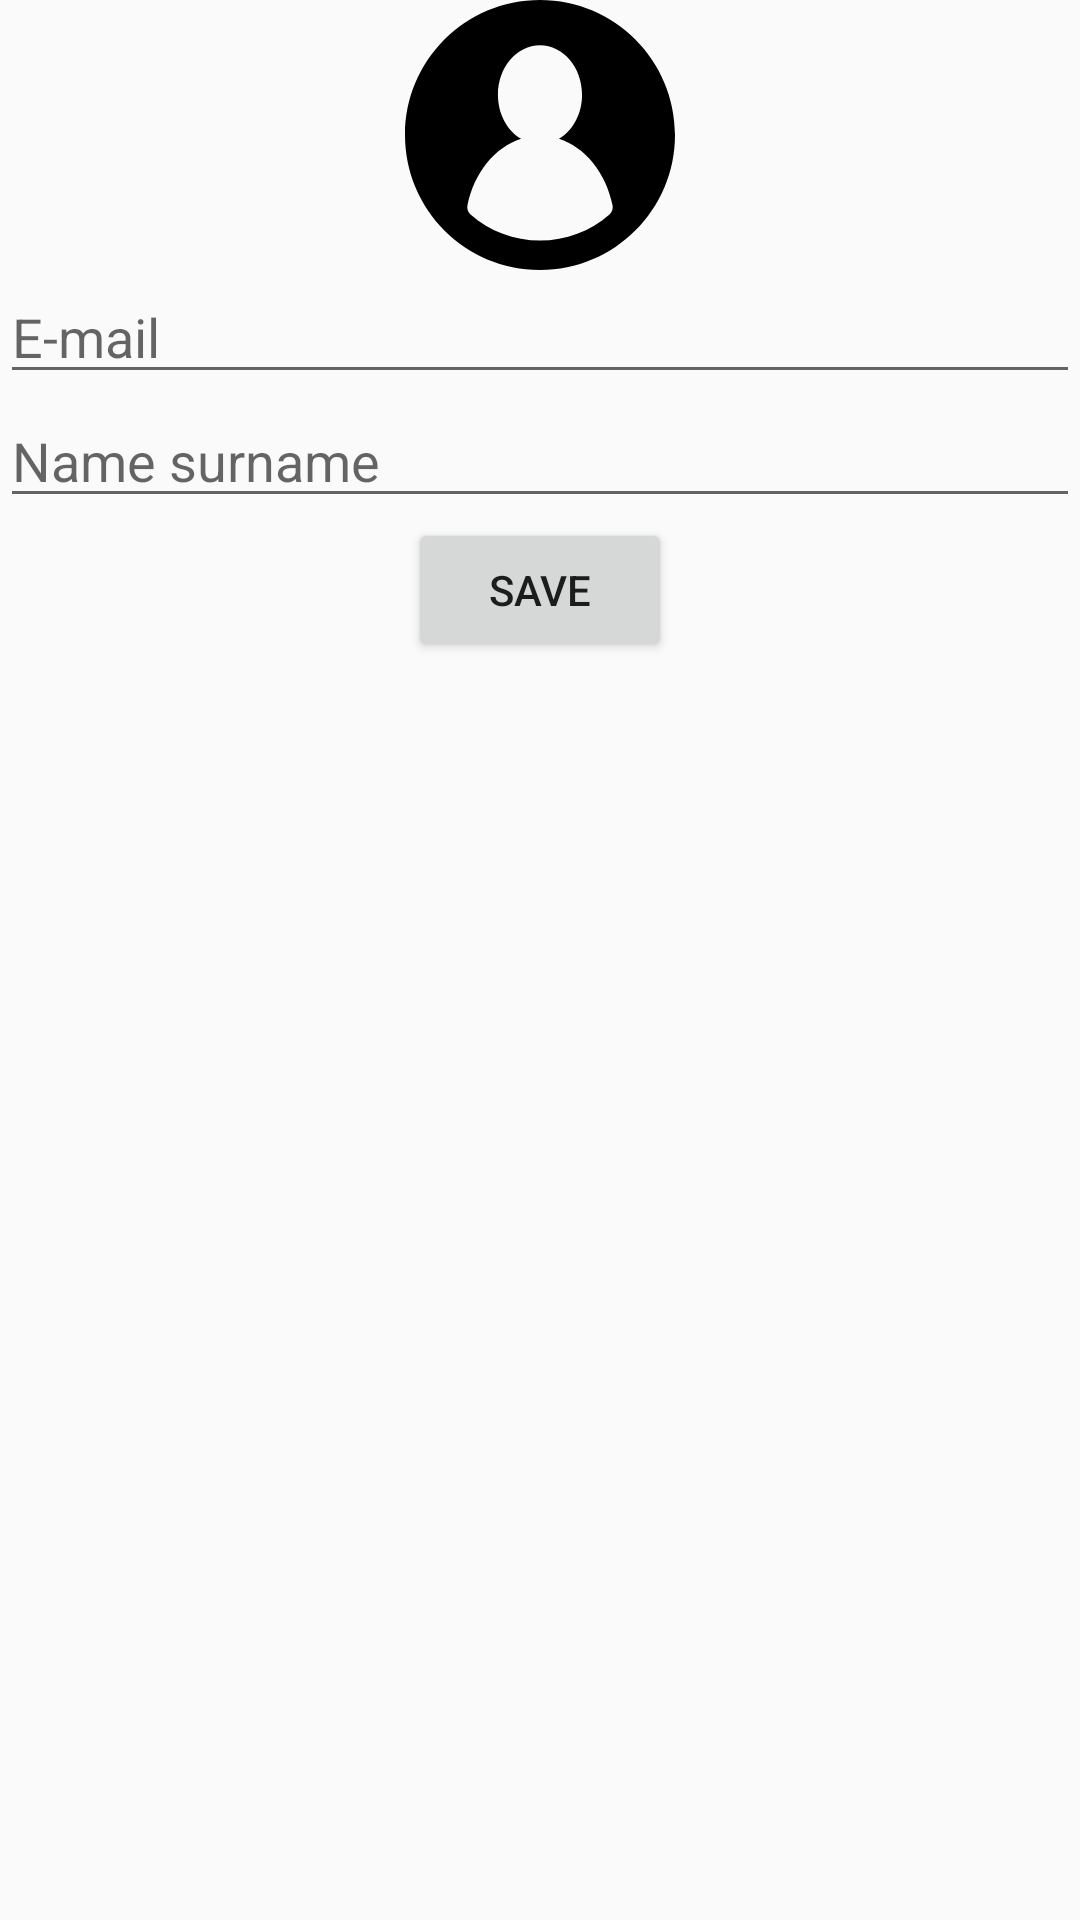

Icon click points for this 1080 x 1920 phone screenshot, format (x,y):
user: (540,135)
